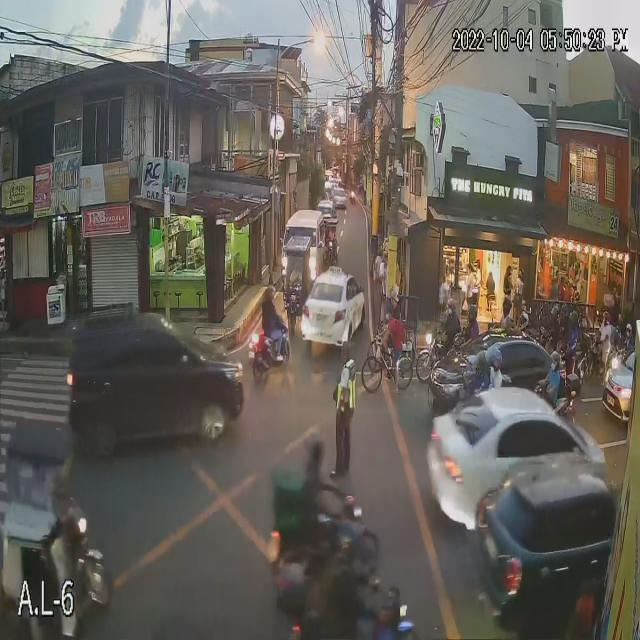helmet: (326, 520, 364, 571), (301, 435, 332, 471), (470, 351, 490, 382), (544, 348, 563, 378), (262, 282, 280, 307), (498, 294, 511, 323), (566, 308, 584, 328), (518, 311, 532, 331), (443, 299, 456, 320), (491, 352, 505, 371), (556, 301, 570, 319), (467, 305, 480, 323), (546, 301, 558, 320), (621, 322, 633, 339), (601, 310, 613, 323)
motorcycle: (270, 490, 375, 581), (284, 580, 411, 640), (529, 373, 585, 423), (246, 325, 291, 380), (410, 329, 458, 378)
rider: (309, 514, 375, 632), (292, 432, 339, 511), (254, 275, 282, 346), (486, 341, 508, 391), (551, 298, 576, 337), (463, 297, 488, 335), (565, 309, 590, 347), (617, 319, 639, 361), (441, 293, 459, 343), (494, 295, 516, 334), (546, 349, 566, 391), (596, 309, 616, 351), (470, 353, 490, 391), (544, 302, 564, 340), (517, 309, 532, 338)
